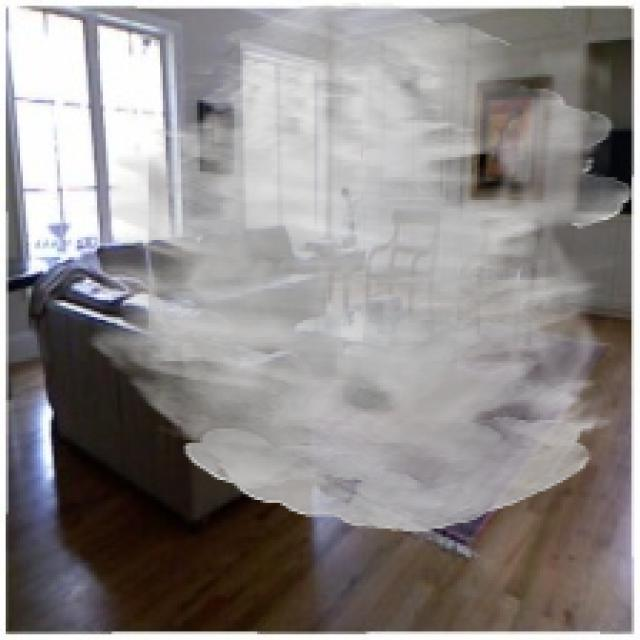smoke: (83, 3, 634, 531)
